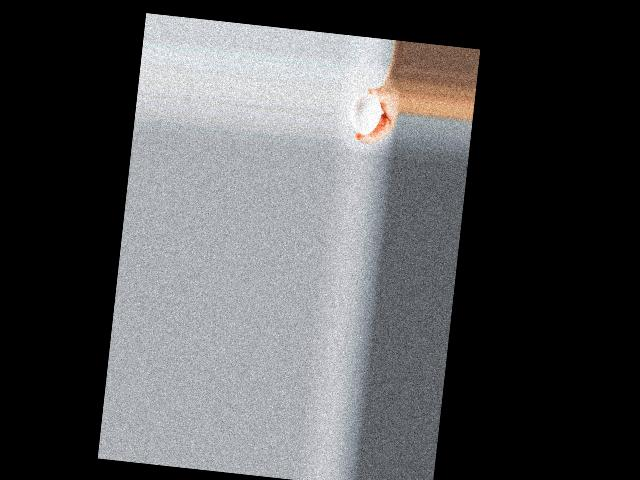egg: (348, 92, 382, 136)
